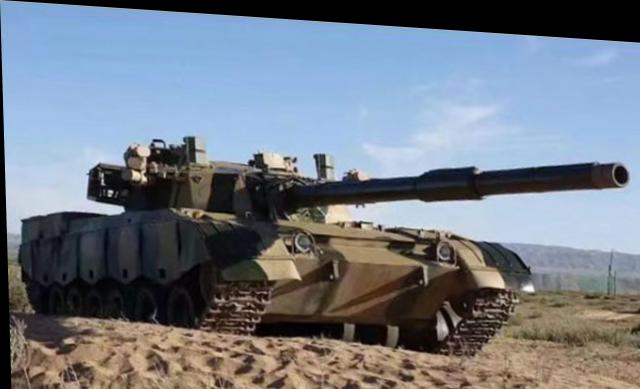tank: (13, 129, 533, 342)
